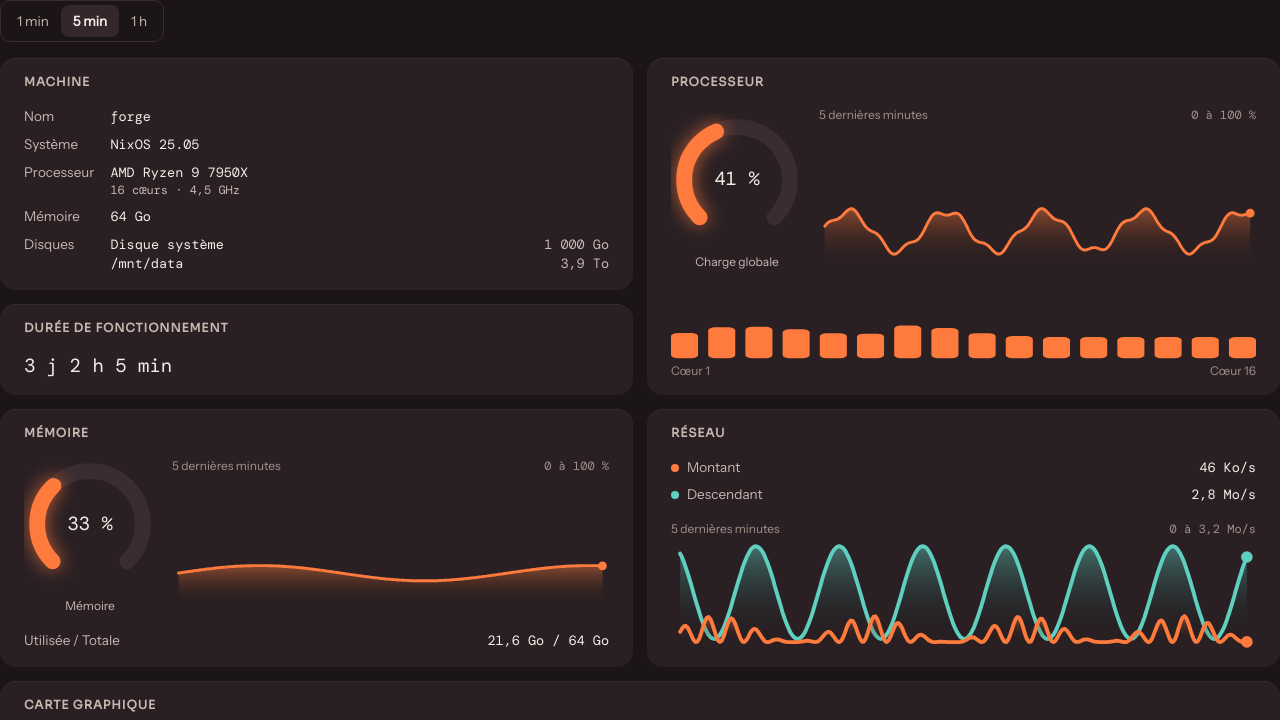
Test: curves window (BR-DASH-010) › shows 5 minutes by default and switches to 1 min or 1 h immediately
expect the text "Depuis" is not shown: met
Click the radio button labelled "1 h".
click(139, 21)  # box [119,5,159,37]
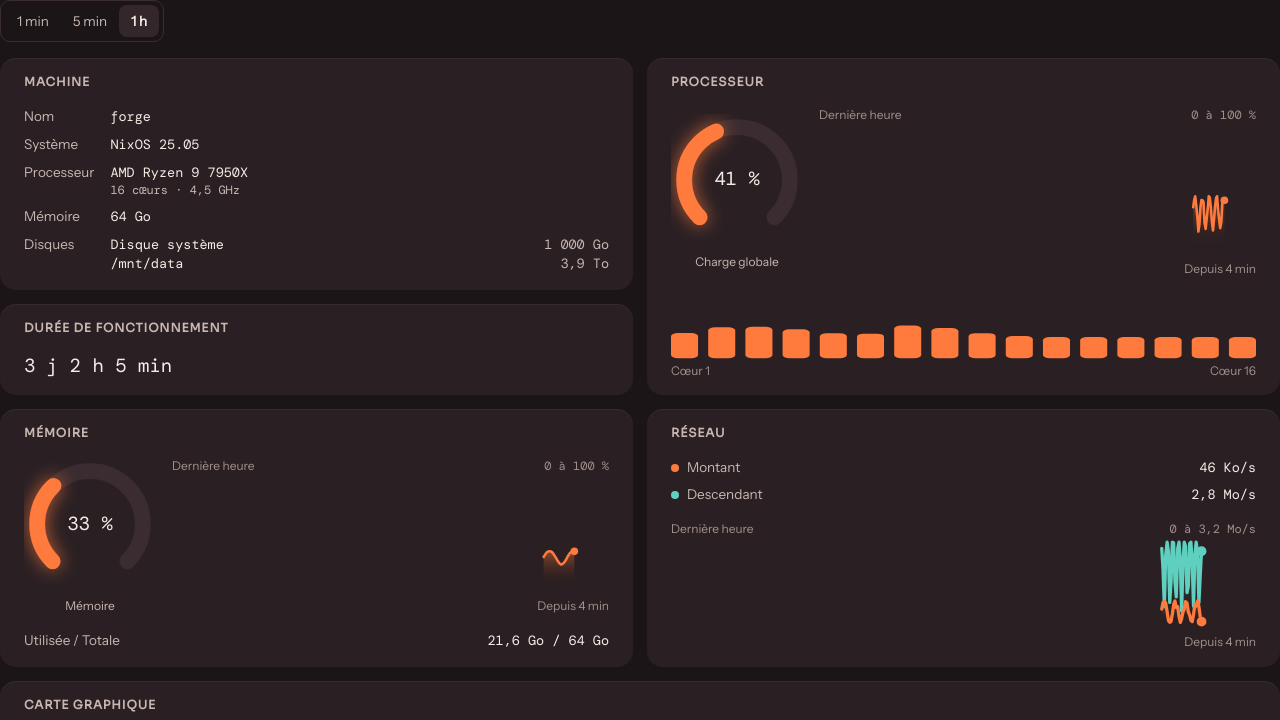
expect the text "Depuis 4 min" is shown: met, box [1184,261,1256,276]
Click the radio button labelled "1 min".
click(33, 21)  # box [5,5,61,37]
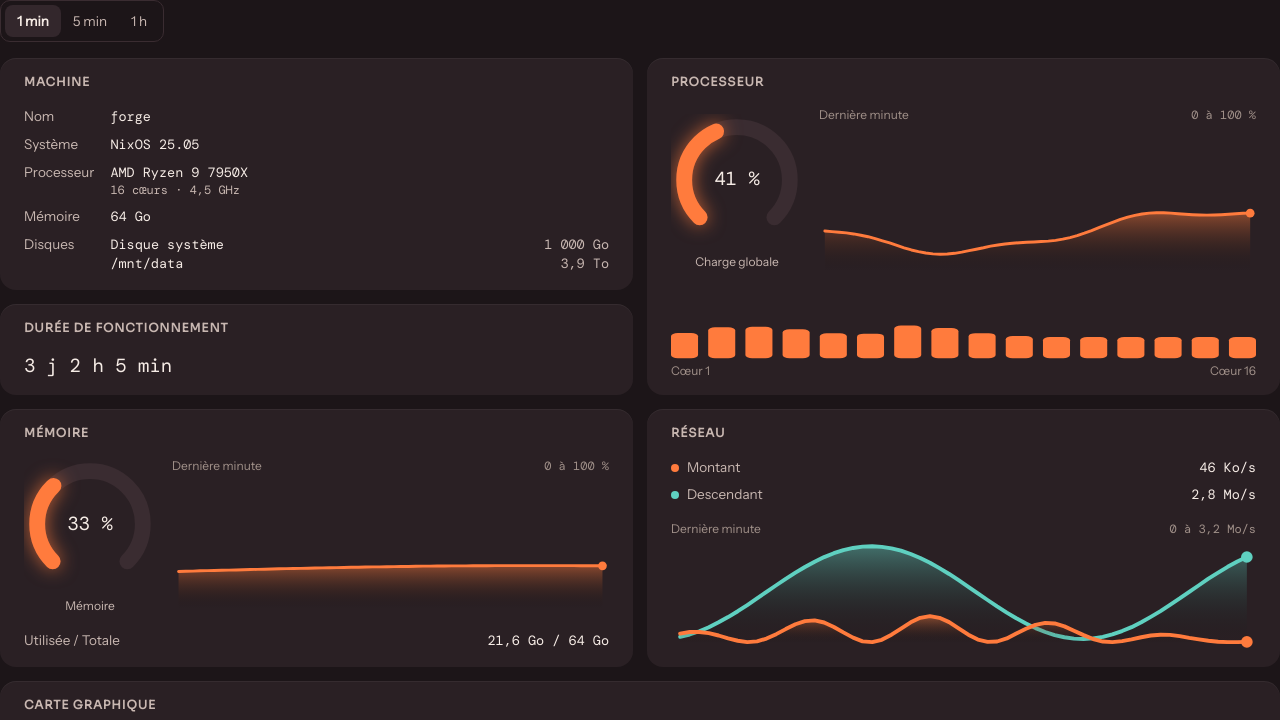
expect the text "Depuis" is gone: met
